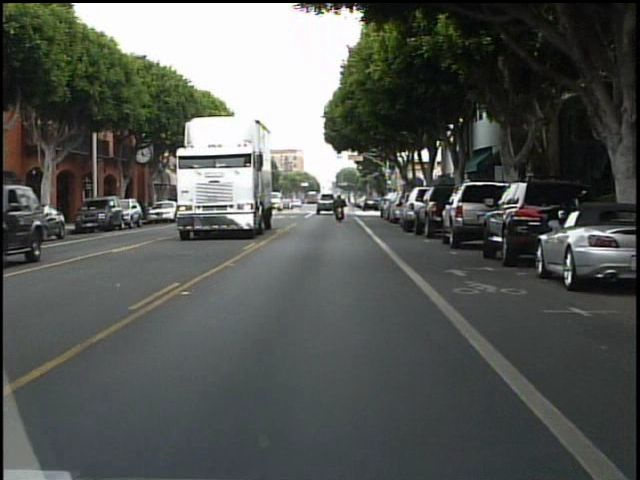person: (331, 192, 348, 223)
